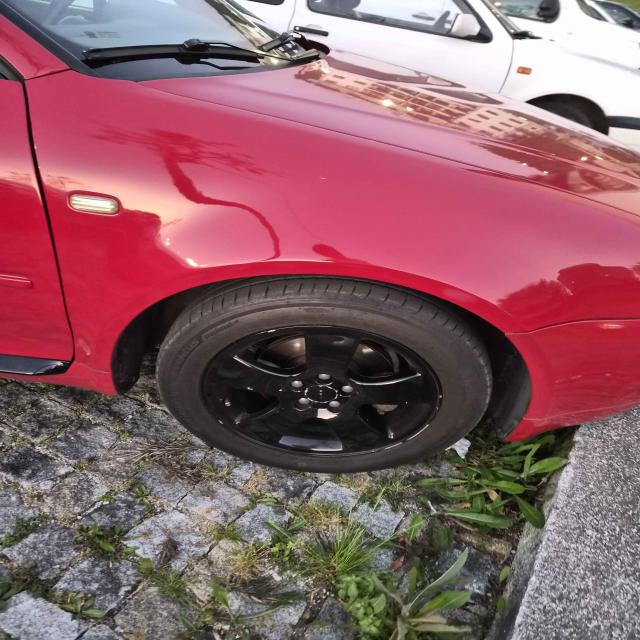jante: (200, 323, 444, 455)
parafuso: (314, 372, 334, 386), (293, 397, 313, 410), (340, 383, 355, 396), (290, 380, 306, 391), (328, 400, 343, 411)
roda: (154, 273, 494, 474)
